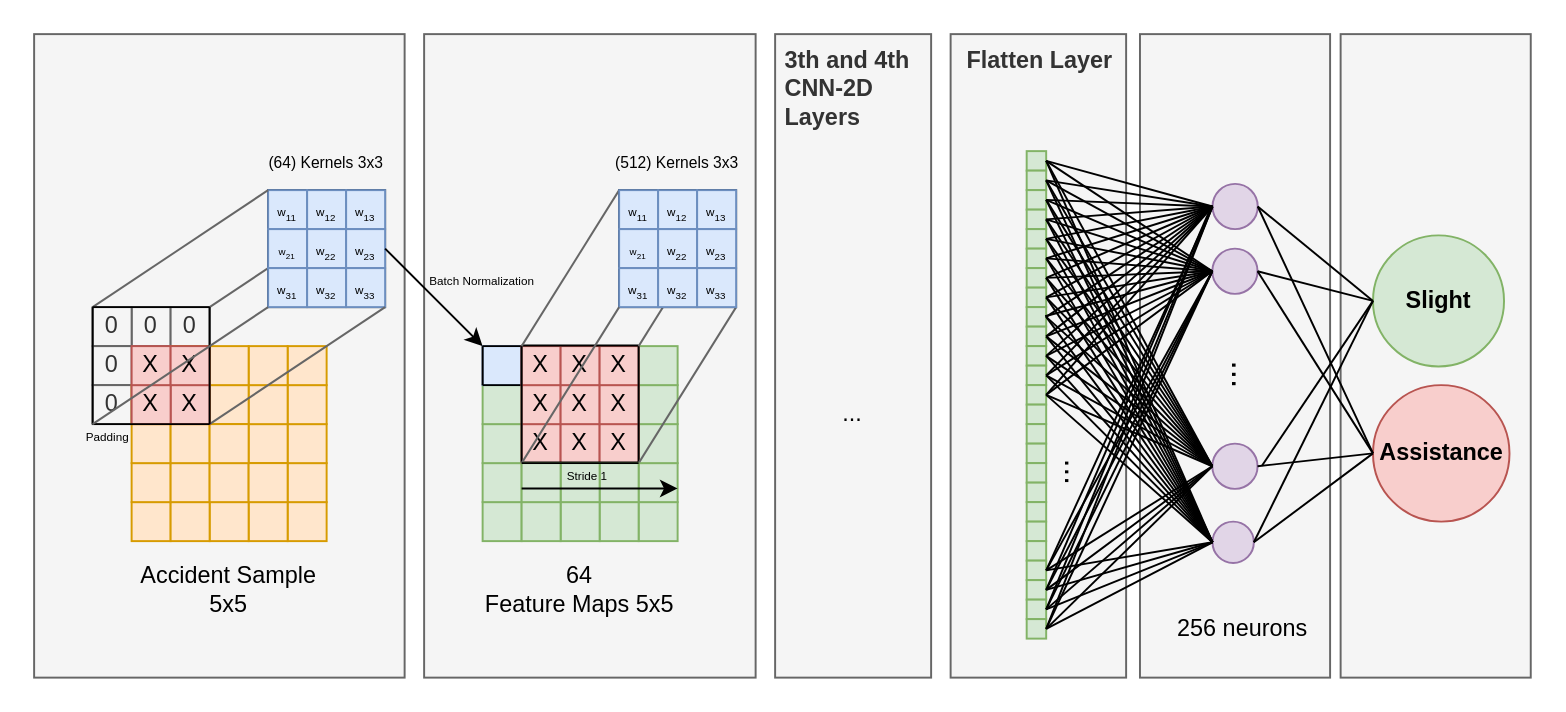
Some shapes in this 1566 by 712 pixel diagram are drawn without their labels. Here are the shapes that lost their labels. From the top down, the box of each, then its label:
(32, 32, 405, 678): 1st CNN-2D Layer
(422, 32, 756, 678): 2nd CNN-2D Layer
(1138, 32, 1330, 678): Dense Layer
(1339, 32, 1531, 678): Softmax Layer
